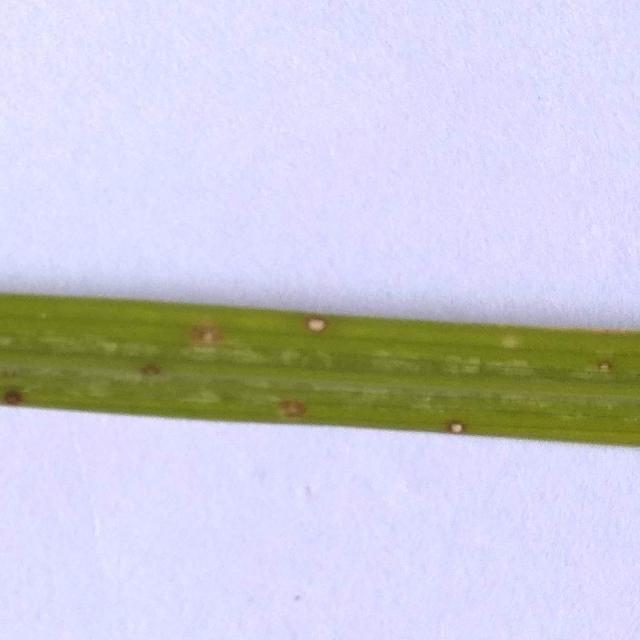Leaf_Blast: (126, 308, 257, 377), (410, 385, 508, 454), (0, 353, 72, 423), (252, 375, 342, 425), (283, 295, 352, 352)
